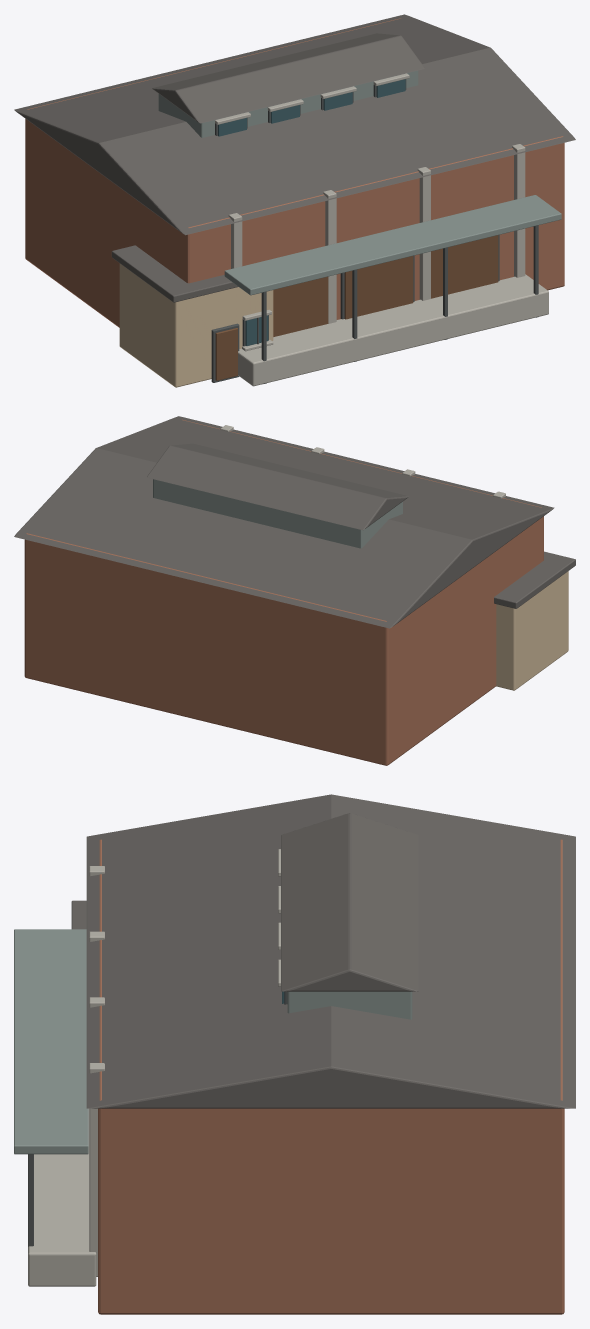
Rendered from Warehouse_01.fbx.
3 views of the same model, one above another, from view 1: azimuth 30°, elevation 25°; view 2: azimuth 150°, elevation 25°; view 3: azimuth 270°, elevation 25° (orthographic). The views are drawn at different scales.
Visible parts, largest first — view 1: Warehouse_Roof, Warehouse_Main, Warehouse_LoadingDock, Warehouse_MonitorRoof, Warehouse_LoadingCanopy, Warehouse_Office, Warehouse_LoadingDoor_0, Warehouse_LoadingDoor_4.5, Warehouse_LoadingDoor_-4.5, Warehouse_OfficeRoof, Warehouse_Monitor, Warehouse_Buttress_7.5 (+5 smaller); view 2: Warehouse_Main, Warehouse_Roof, Warehouse_MonitorRoof, Warehouse_Office, Warehouse_Monitor, Warehouse_OfficeRoof; view 3: Warehouse_Roof, Warehouse_Main, Warehouse_MonitorRoof, Warehouse_LoadingCanopy, Warehouse_LoadingDock, Warehouse_Monitor, Warehouse_Buttress_7.5.
Boxes of the visible parts, box(x1,y1,x2,y2) form: Warehouse_Roof: box(14, 14, 575, 235); Warehouse_Main: box(25, 18, 564, 327); Warehouse_LoadingDock: box(238, 274, 548, 386); Warehouse_MonitorRoof: box(152, 33, 424, 123); Warehouse_LoadingCanopy: box(224, 195, 561, 295); Warehouse_Office: box(119, 263, 273, 387); Warehouse_LoadingDoor_0: box(344, 256, 413, 319); Warehouse_LoadingDoor_4.5: box(431, 235, 498, 298); Warehouse_LoadingDoor_-4.5: box(273, 276, 328, 336); Warehouse_OfficeRoof: box(111, 245, 238, 302); Warehouse_Monitor: box(158, 70, 418, 137); Warehouse_Buttress_7.5: box(512, 144, 525, 277); Warehouse_Main: box(24, 419, 543, 765); Warehouse_Roof: box(14, 416, 554, 628); Warehouse_MonitorRoof: box(147, 443, 408, 530); Warehouse_Office: box(496, 571, 568, 690); Warehouse_Monitor: box(153, 479, 402, 548); Warehouse_OfficeRoof: box(494, 551, 575, 608); Warehouse_Roof: box(86, 794, 575, 1108); Warehouse_Main: box(98, 839, 564, 1314); Warehouse_MonitorRoof: box(281, 813, 418, 991); Warehouse_LoadingCanopy: box(14, 929, 88, 1154); Warehouse_LoadingDock: box(28, 1109, 96, 1286); Warehouse_Monitor: box(287, 991, 412, 1019); Warehouse_Buttress_7.5: box(89, 1063, 104, 1276).
Size of the model in its own units: 21.65 by 10.51 by 18.07.
